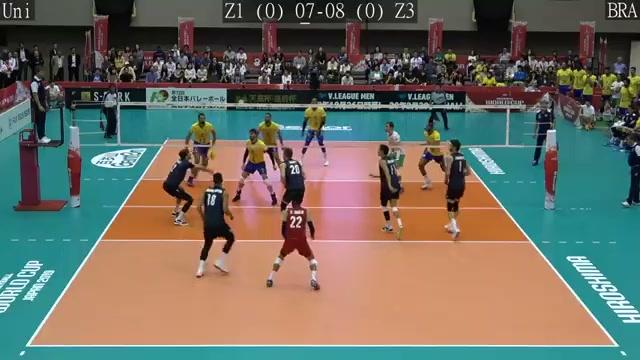ball: (204, 149, 215, 156)
